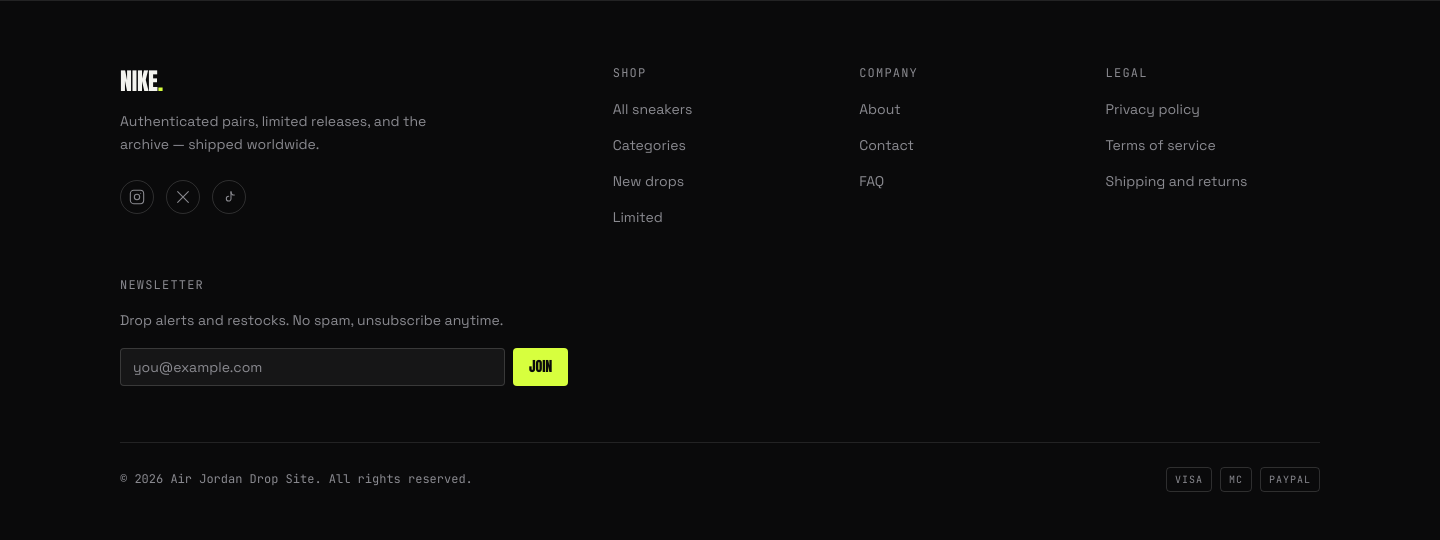
Test: newsletter form — success › confirms a new signup and clears the field
Type "new@example.com" into the field named "Email address" at (313, 367), box [120,348,505,386]
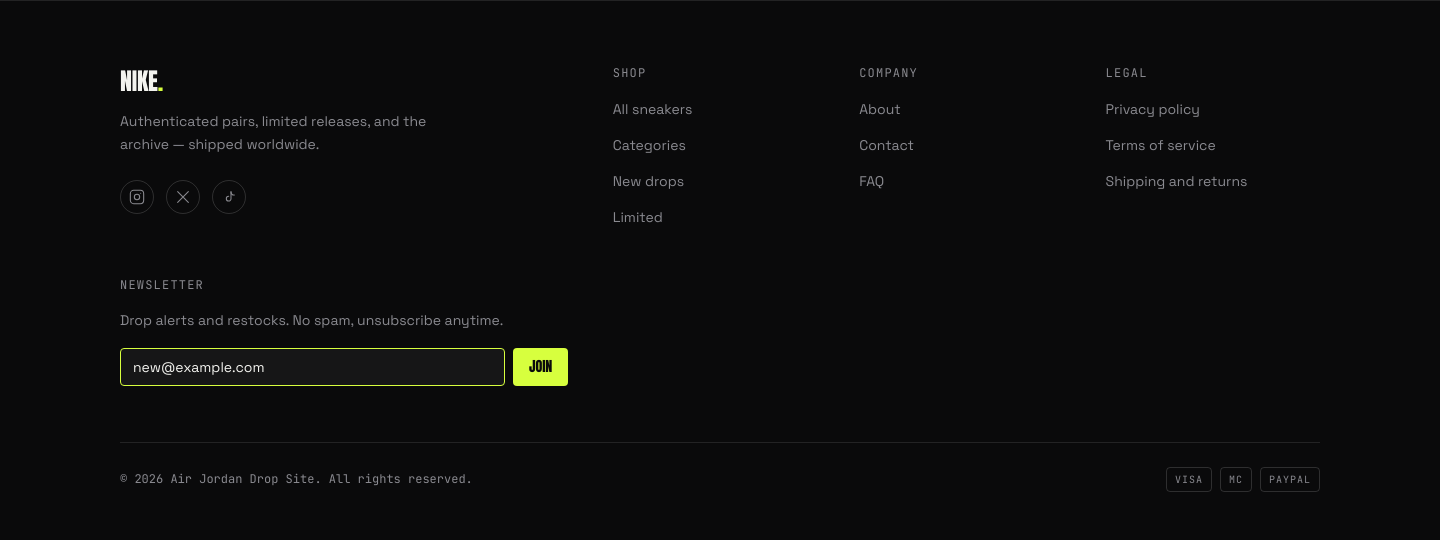
Click the button "Join" at (541, 367), box [513,348,568,386]
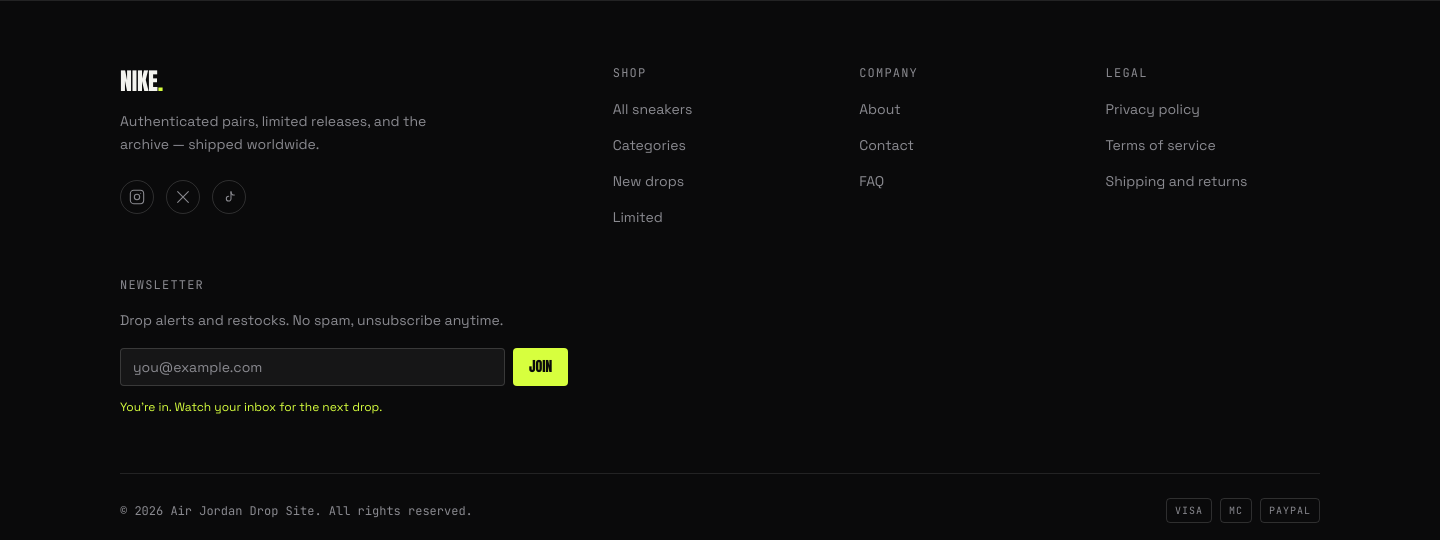
Expected: the message reads "You're in. Watch your inbox for the next drop.", [120,399,382,415]
Expected: the field named "Email address" is empty, [120,348,505,386]
